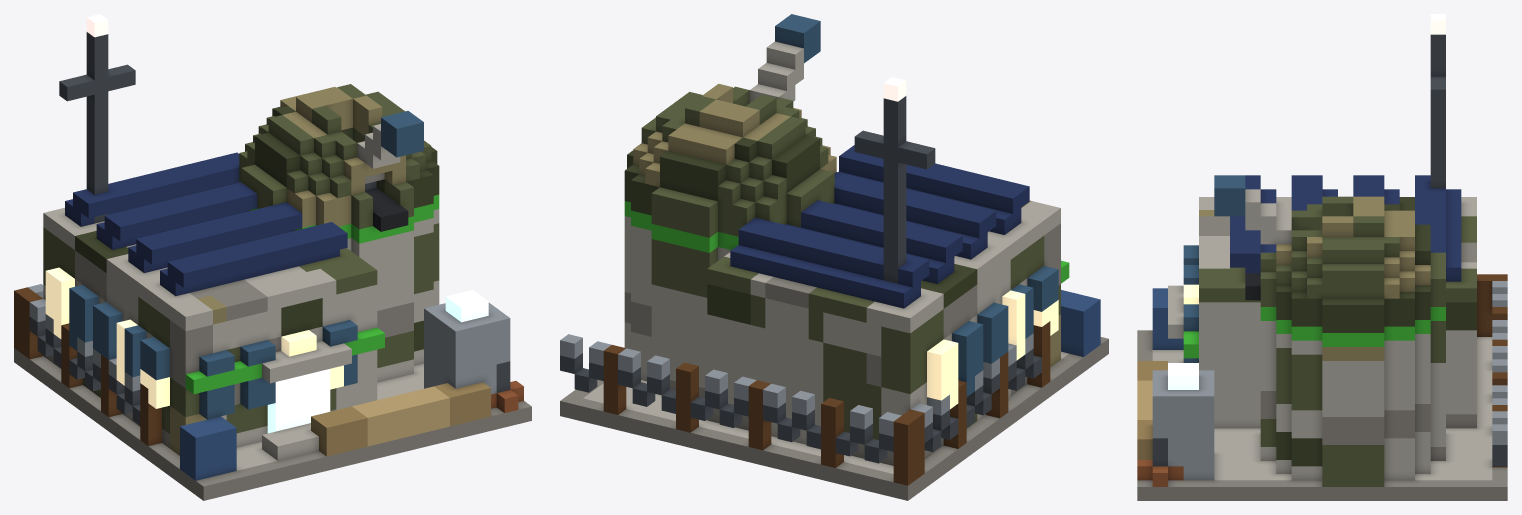
File: cm_lab_3.glb
3 renders of one model, left to right at view 1: azimuth 30°, elevation 25°; view 2: azimuth 150°, elevation 25°; view 3: azimuth 270°, elevation 25°, orthographic. The views are drawn at different scales.
Parts seen in each view (by area): view 1: cm_lab_3_body; view 2: cm_lab_3_body; view 3: cm_lab_3_body.
Boxes of the visible parts, x1,y1,x2,y2 form: cm_lab_3_body: [14, 14, 531, 500]; cm_lab_3_body: [560, 14, 1108, 500]; cm_lab_3_body: [1137, 14, 1507, 500].
Bounding box in the file's own units: 1.5 × 1.56 × 1.5.
Materials: 1 (1 with a texture image).
